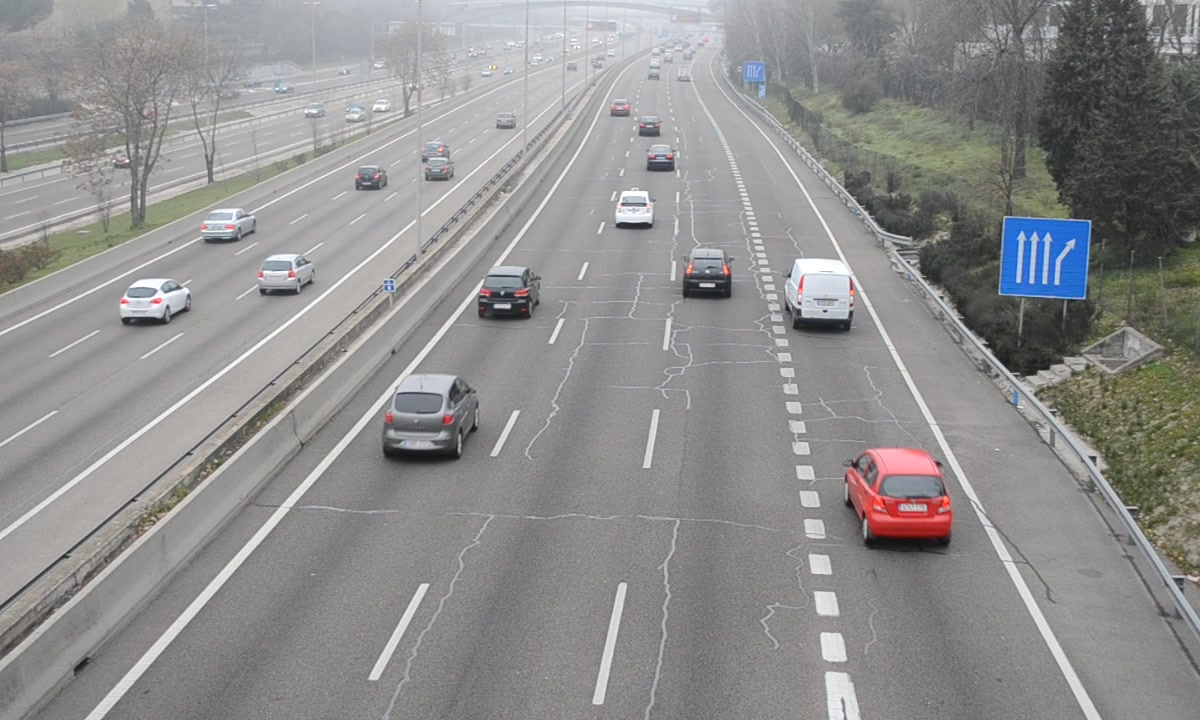car: (848, 449, 954, 539), (384, 374, 475, 458), (476, 267, 539, 320), (683, 247, 731, 296), (615, 190, 653, 227), (647, 143, 676, 171)
van: (790, 259, 855, 329)
